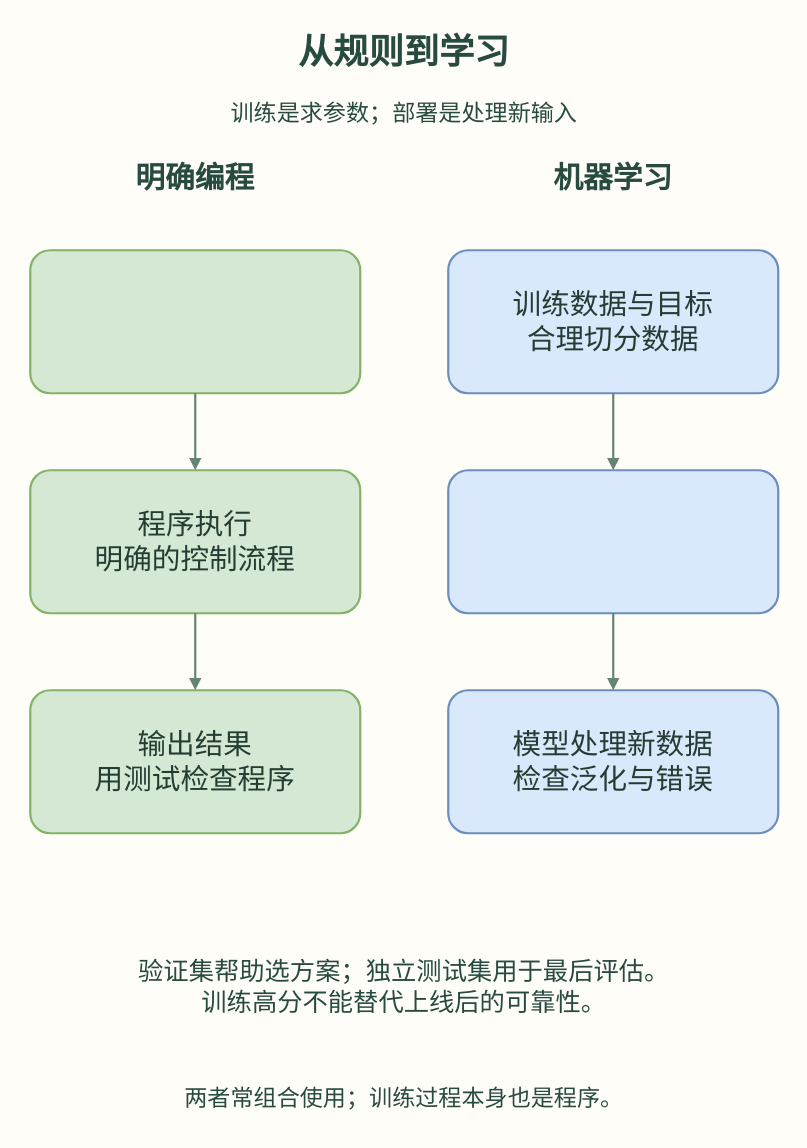
This 807x1148 diagram has some shape labels left out. Each missing label, with the centre of its shape:
"开发者编写规则 加上待处理数据" goes at pixel 195 321.
"训练得到模型 调整可学习参数" goes at pixel 613 541.
